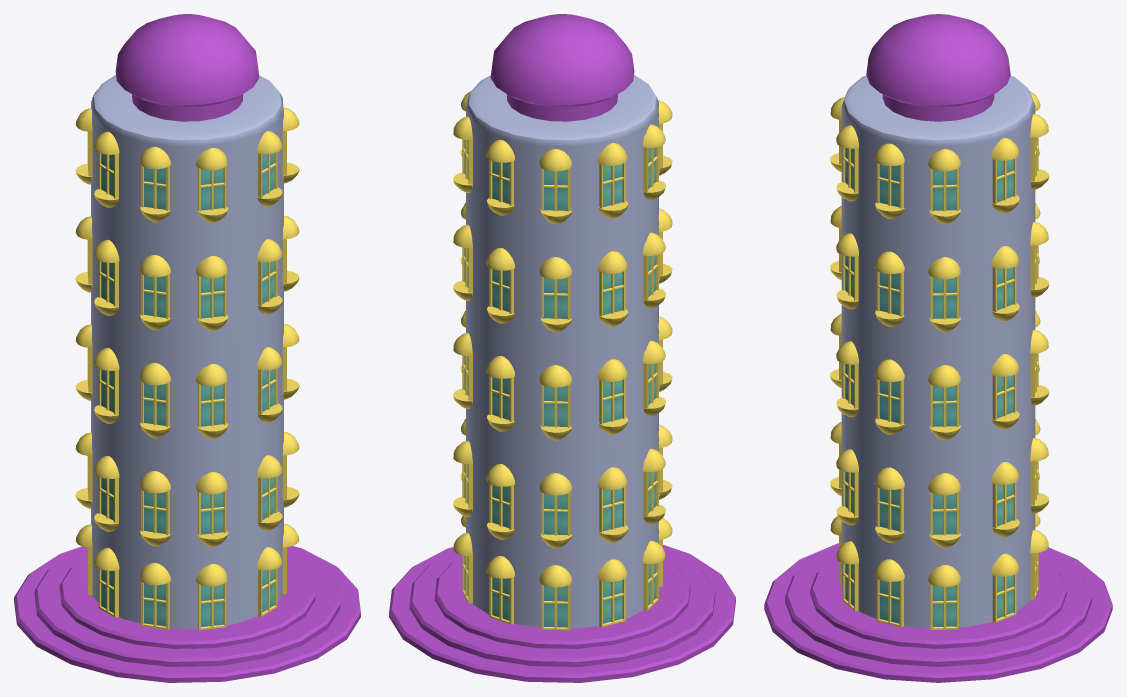
Rendered from SM_Skyscraper_34.fbx.
3 views of the same model, side by side, from view 1: azimuth 30°, elevation 25°; view 2: azimuth 150°, elevation 25°; view 3: azimuth 270°, elevation 25° (orthographic).
Parts seen in each view (by area): view 1: SM_Skyscraper_34; view 2: SM_Skyscraper_34; view 3: SM_Skyscraper_34.
Boxes of the visible parts, x1,y1,x2,y2 form: SM_Skyscraper_34: [14, 14, 360, 682]; SM_Skyscraper_34: [389, 14, 735, 682]; SM_Skyscraper_34: [764, 14, 1112, 682].
Bounding box in the file's own units: 1329 × 2470 × 1329.
